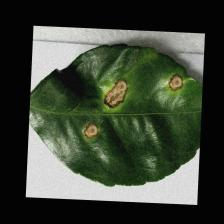canker: (70, 68, 201, 144)
